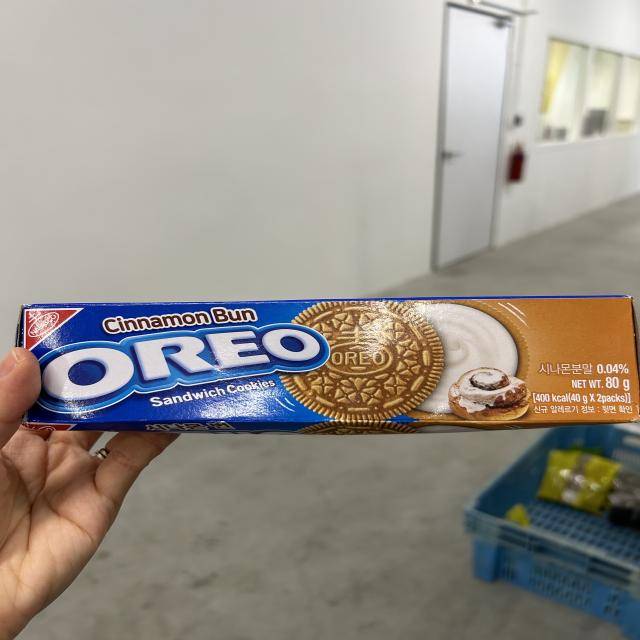object_name: (26, 291, 640, 422)
